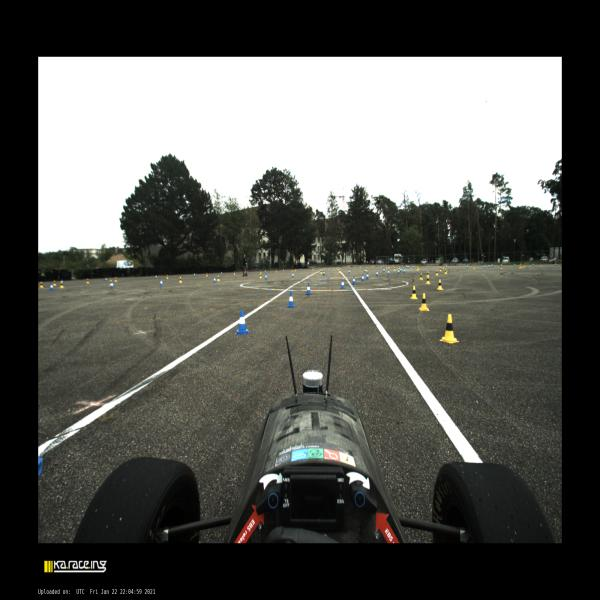blue_cone: (235, 310, 249, 334), (287, 292, 295, 308), (306, 283, 311, 295), (340, 280, 345, 288), (352, 276, 356, 284), (366, 272, 369, 280), (50, 284, 54, 290), (110, 282, 114, 288), (160, 279, 163, 286), (322, 270, 325, 276), (397, 269, 400, 274), (362, 274, 364, 281), (376, 270, 378, 276), (387, 270, 390, 274), (348, 268, 350, 274), (292, 272, 294, 278), (214, 277, 216, 283), (404, 268, 406, 273), (265, 274, 267, 279), (382, 268, 384, 272), (484, 264, 486, 268), (488, 264, 490, 268), (400, 268, 402, 272), (364, 268, 366, 272), (105, 277, 107, 281), (532, 263, 534, 266), (155, 275, 157, 278), (413, 265, 415, 268), (392, 265, 394, 268), (491, 264, 493, 267), (337, 266, 339, 269), (514, 264, 516, 266), (300, 268, 302, 270), (427, 266, 429, 268), (326, 267, 328, 269), (555, 263, 556, 266), (467, 265, 468, 268), (194, 273, 195, 276), (373, 265, 374, 268), (383, 265, 384, 268), (446, 265, 447, 268), (221, 272, 222, 274), (283, 269, 284, 271), (314, 268, 315, 270), (265, 270, 266, 272), (402, 265, 403, 267), (408, 266, 409, 268), (347, 266, 348, 268), (406, 265, 406, 268)
yellow_cone: (439, 314, 458, 344), (418, 293, 430, 311), (410, 286, 418, 299), (437, 280, 443, 290), (59, 281, 64, 288), (426, 276, 430, 284), (419, 273, 423, 280), (40, 281, 44, 288), (86, 278, 90, 284), (179, 276, 182, 283), (426, 271, 429, 277), (439, 266, 442, 272), (217, 275, 220, 281), (53, 280, 56, 286), (109, 280, 112, 286), (444, 269, 447, 274), (259, 273, 262, 278), (436, 269, 438, 275), (366, 267, 368, 272), (115, 277, 117, 282), (473, 265, 475, 269), (500, 265, 502, 269), (522, 264, 524, 268), (393, 266, 395, 270), (320, 270, 322, 274), (206, 272, 208, 276), (416, 266, 418, 270), (442, 265, 444, 269), (524, 263, 526, 267), (339, 266, 341, 270), (518, 265, 520, 268), (388, 265, 390, 268), (260, 270, 262, 273), (312, 268, 314, 271), (328, 267, 330, 270), (349, 266, 351, 269), (398, 266, 400, 268), (339, 268, 340, 272), (167, 274, 168, 278), (234, 271, 235, 275), (275, 270, 277, 272), (295, 268, 296, 272), (359, 266, 361, 268), (371, 266, 373, 268), (540, 263, 541, 266), (386, 266, 387, 268), (381, 266, 382, 268)
